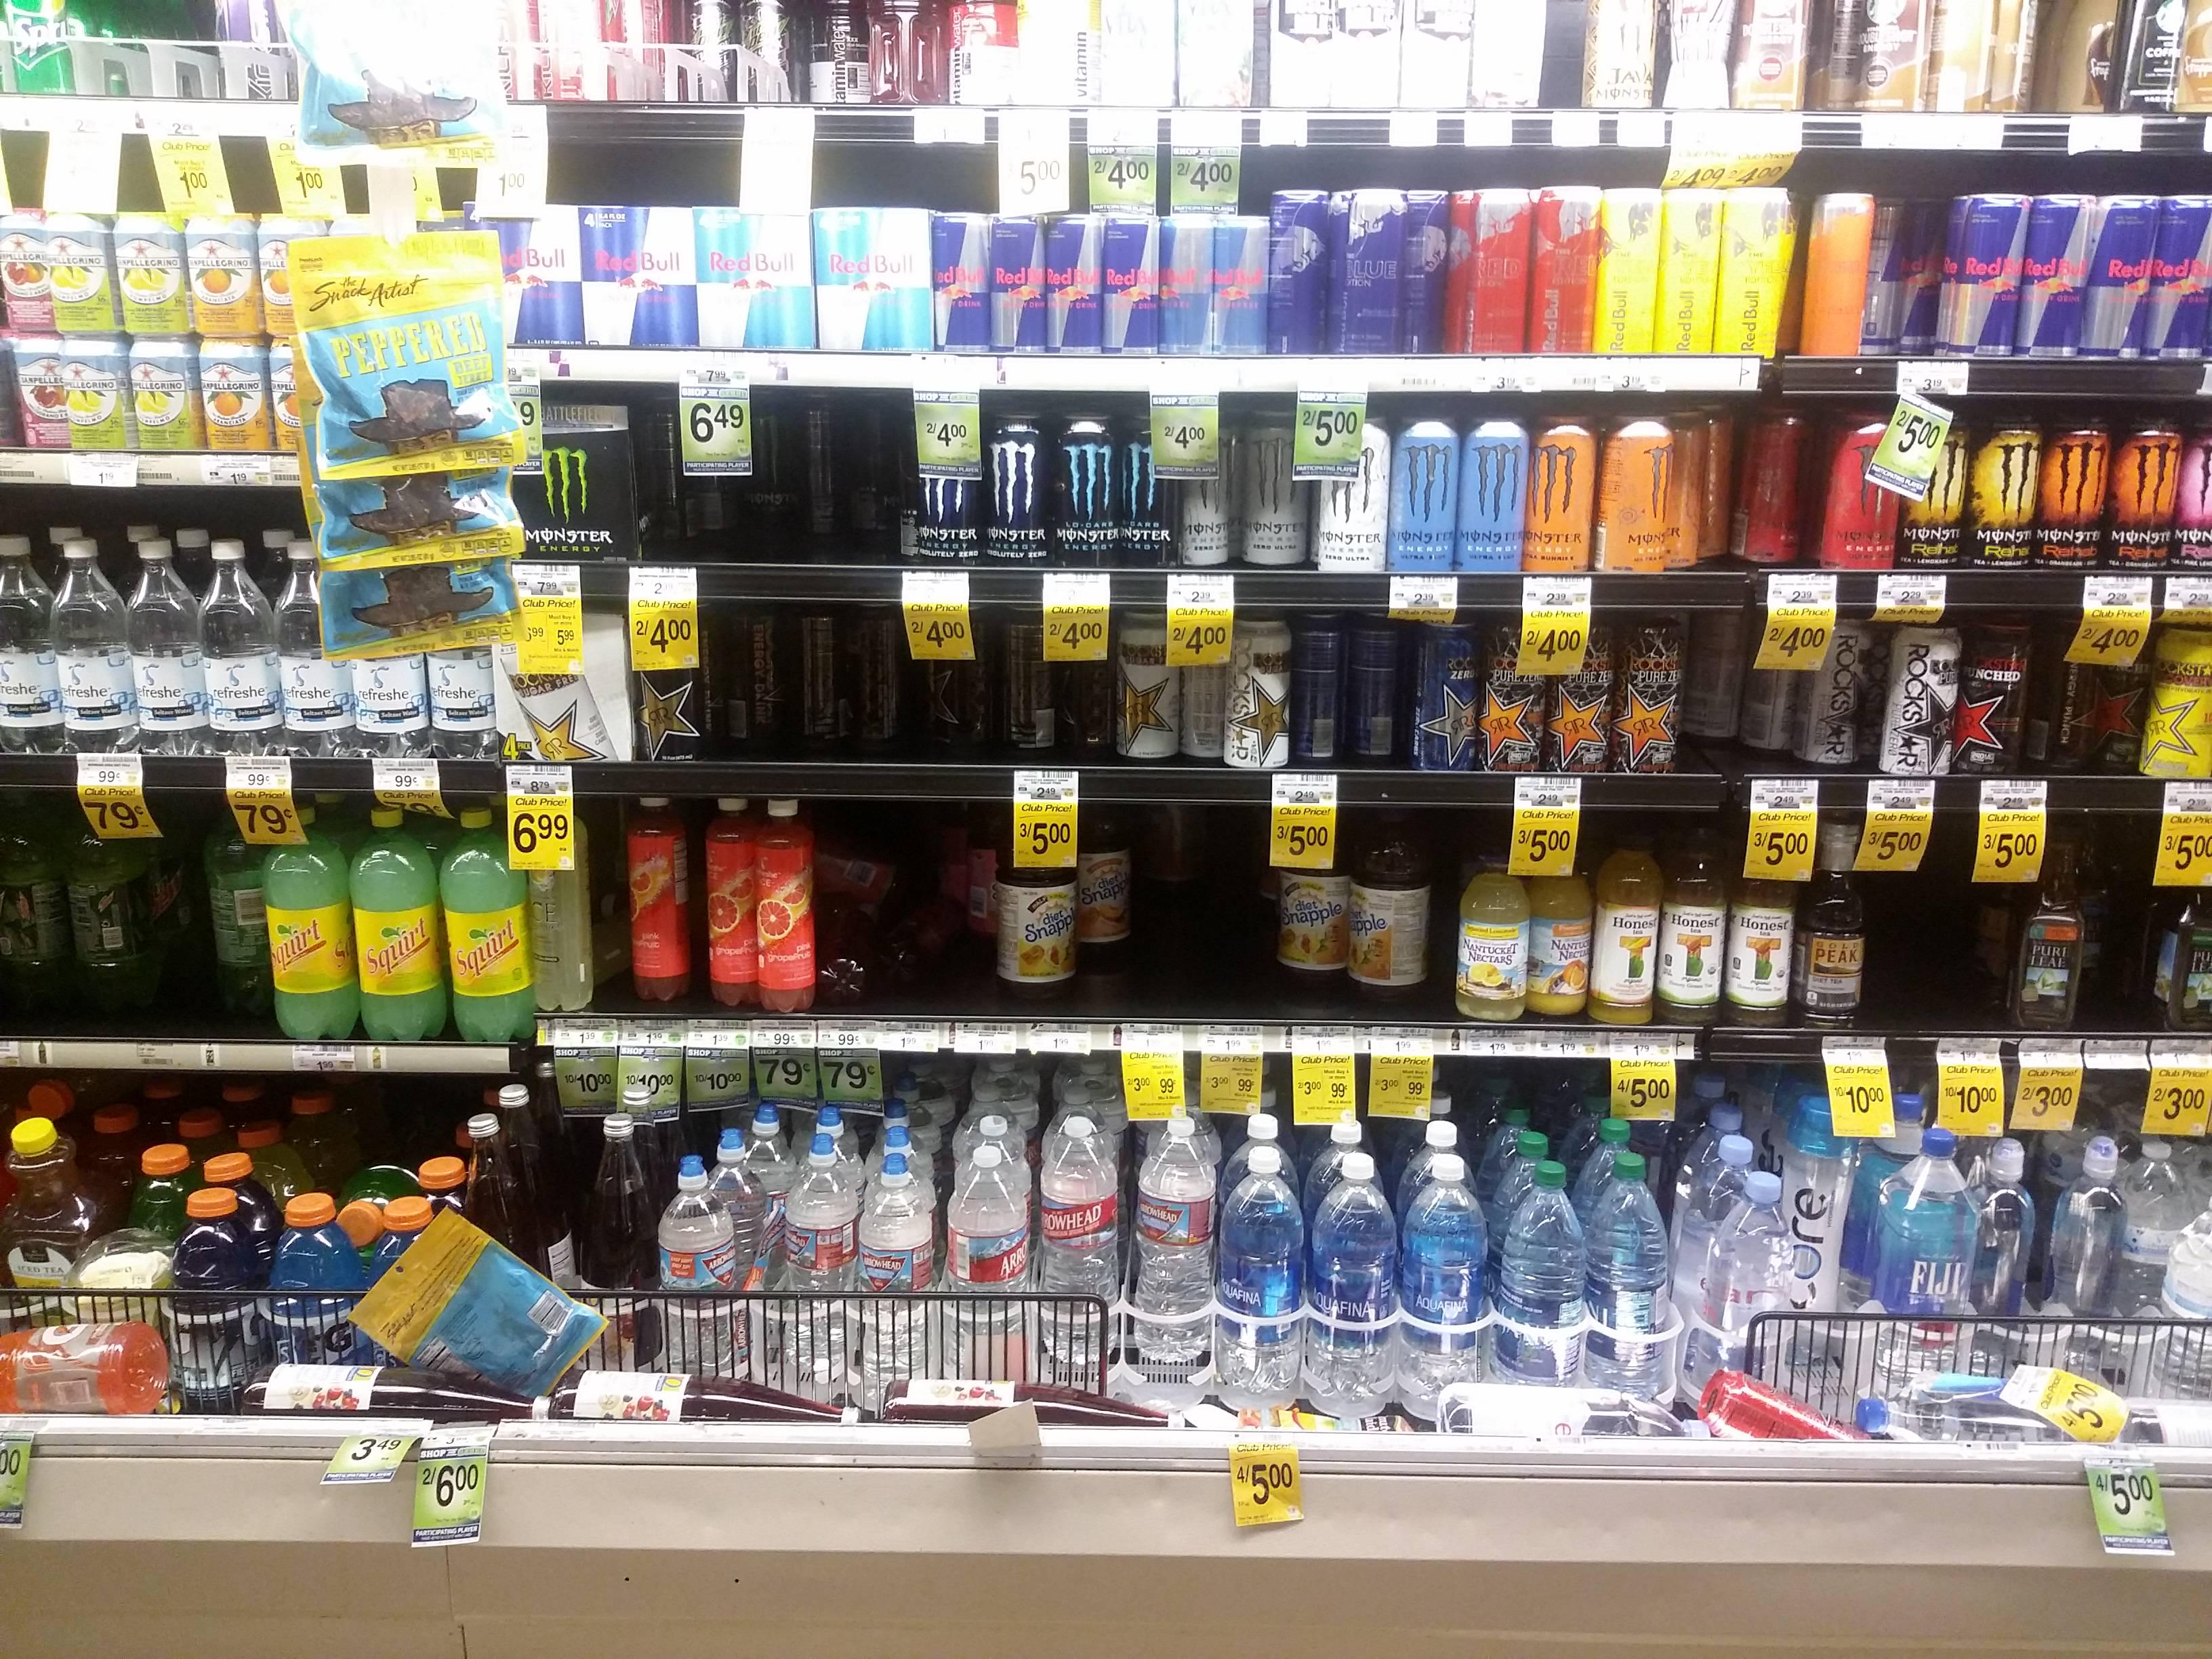misalignment: (366, 1195, 618, 1399), (1860, 1373, 2163, 1452), (246, 1356, 563, 1431), (1433, 1377, 1710, 1448), (561, 1377, 867, 1439), (876, 1370, 1191, 1431), (0, 1319, 179, 1419), (1702, 1368, 1864, 1452)
